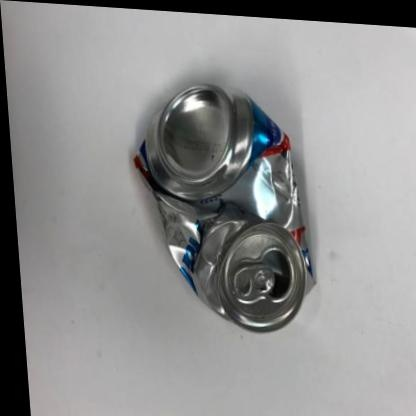trash: (134, 85, 314, 330)
